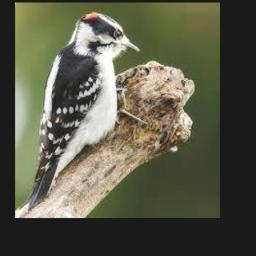Woodpecker: (20, 11, 149, 211)
